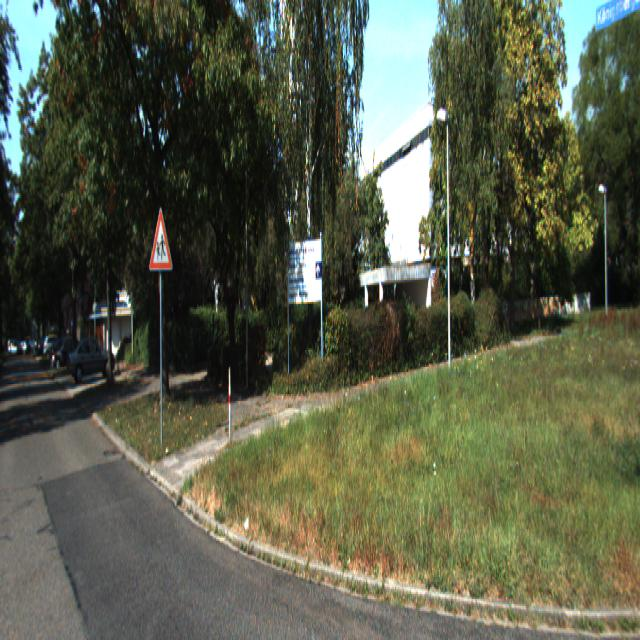Car: (70, 334, 118, 383)
